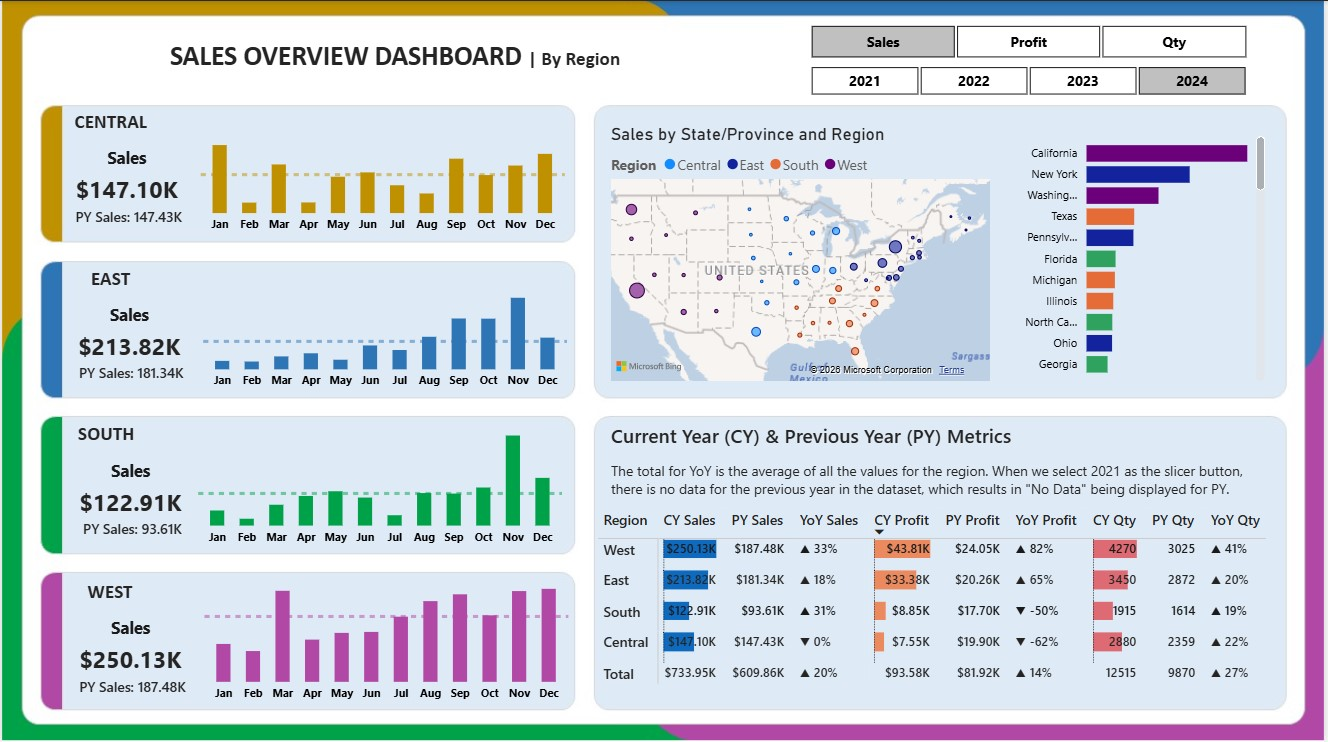

The dashboard page shown, as its layout file describes it:
{"tool":"powerbi","page":{"name":"Page 1","canvas":[1280,720],"ordinal":0},"visuals":[{"type":"slicer","fields":{"Values":["Select Metric.Select Metric"]},"box":[757.8,16.9,470.9,44.8],"z":0},{"type":"card","fields":{"Values":["Sales Data.Total Qty"]},"box":[60.5,162.2,121,43.6],"z":1000},{"type":"textbox","box":[60.5,100.5,89.6,36.3],"z":2000},{"type":"slicer","fields":{"Values":["Calendar Table.Year"]},"box":[757.7,56.3,470.4,38],"z":3000},{"type":"card","fields":{"Values":["Sales Data.Dynamic Title"]},"box":[77.5,136.8,87.2,35.1],"z":4000},{"type":"card","fields":{"Values":["Sales Data.PY KPI Sales"]},"box":[64.2,196.1,117.4,25.4],"z":5000},{"type":"clusteredColumnChart","fields":{"Y":["Sales Data.Total Qty"],"Category":["Calendar Table.Month"]},"box":[188,100.2,362.3,133.1],"z":6000},{"type":"textbox","box":[67.8,31.5,625.8,49.6],"z":7000},{"type":"card","fields":{"Values":["Sales Data.Total Qty"]},"box":[62.8,313.8,121,43.6],"z":8000},{"type":"textbox","box":[60.4,252.5,89.2,35.7],"z":9000},{"type":"card","fields":{"Values":["Sales Data.Dynamic Title"]},"box":[79.8,288.4,87.2,35.1],"z":10000},{"type":"card","fields":{"Values":["Sales Data.PY KPI Sales"]},"box":[66.5,347.7,117.4,25.4],"z":11000},{"type":"clusteredColumnChart","fields":{"Y":["Sales Data.Total Qty"],"Category":["Calendar Table.Month"]},"box":[190.3,251.8,362.3,133.1],"z":12000},{"type":"card","fields":{"Values":["Sales Data.Total Qty"]},"box":[64.1,465.4,121,43.6],"z":13000},{"type":"textbox","box":[60.4,403.4,85.1,37],"z":14000},{"type":"card","fields":{"Values":["Sales Data.Dynamic Title"]},"box":[81,440,87.2,35.1],"z":15000},{"type":"card","fields":{"Values":["Sales Data.PY KPI Sales"]},"box":[67.7,499.3,117.4,25.4],"z":16000},{"type":"clusteredColumnChart","fields":{"Y":["Sales Data.Total Qty"],"Category":["Calendar Table.Month"]},"box":[185.2,403.4,362.3,133.1],"z":17000},{"type":"card","fields":{"Values":["Sales Data.Total Qty"]},"box":[64.1,616.9,121,43.6],"z":18000},{"type":"textbox","box":[64.5,555.7,81,35.7],"z":19000},{"type":"card","fields":{"Values":["Sales Data.Dynamic Title"]},"box":[81,591.5,87.2,35.1],"z":20000},{"type":"card","fields":{"Values":["Sales Data.PY KPI Sales"]},"box":[67.7,650.8,117.4,25.4],"z":21000},{"type":"clusteredColumnChart","fields":{"Y":["Sales Data.Total Qty"],"Category":["Calendar Table.Month"]},"box":[191.5,554.9,362.3,133.1],"z":22000},{"type":"map","fields":{"Size":["Sales Data.Total Qty"],"Category":["Sales Data.State/Province"],"Series":["Sales Data.Region"]},"box":[584.5,118.3,377.5,254.9],"z":23000},{"type":"barChart","fields":{"Y":["Sales Data.Total Qty"],"Category":["Sales Data.State/Province"],"Series":["Sales Data.Region"]},"box":[974.6,118.3,253.5,254.9],"z":24000},{"type":"pivotTable","fields":{"Rows":["Sales Data.Region"],"Values":["Sales Data.CY Sales","Sales Data.PY Sales","Sales Data.YoY Sales","Sales Data.CY Profit","Sales Data.PY Profit","Sales Data.YoY Profit","Sales Data.CY Qty","Sales Data.PY Qty","Sales Data.YoY Qty"]},"box":[572.6,486.6,668.2,188.8],"z":25000},{"type":"textbox","box":[584.5,402.8,408.5,36.6],"z":26000},{"type":"textbox","box":[584.7,440.6,627,46],"z":27000}]}

Visuals, with their boxes in screenshot pixels (x1, y1, x2, y2), scaled from the page's 1280x720 canvas onto the 1328x742 screenshot:
slicer - Select Metric.Select Metric: [x1=786, y1=17, x2=1275, y2=64]
card - Sales Data.Total Qty: [x1=63, y1=167, x2=188, y2=212]
textbox: [x1=63, y1=104, x2=156, y2=141]
slicer - Calendar Table.Year: [x1=786, y1=58, x2=1274, y2=97]
card - Sales Data.Dynamic Title: [x1=80, y1=141, x2=171, y2=177]
card - Sales Data.PY KPI Sales: [x1=67, y1=202, x2=188, y2=228]
clusteredColumnChart - Sales Data.Total Qty x Calendar Table.Month: [x1=195, y1=103, x2=571, y2=240]
textbox: [x1=70, y1=32, x2=720, y2=84]
card - Sales Data.Total Qty: [x1=65, y1=323, x2=191, y2=368]
textbox: [x1=63, y1=260, x2=155, y2=297]
card - Sales Data.Dynamic Title: [x1=83, y1=297, x2=173, y2=333]
card - Sales Data.PY KPI Sales: [x1=69, y1=358, x2=191, y2=385]
clusteredColumnChart - Sales Data.Total Qty x Calendar Table.Month: [x1=197, y1=259, x2=573, y2=397]
card - Sales Data.Total Qty: [x1=67, y1=480, x2=192, y2=525]
textbox: [x1=63, y1=416, x2=151, y2=454]
card - Sales Data.Dynamic Title: [x1=84, y1=453, x2=175, y2=490]
card - Sales Data.PY KPI Sales: [x1=70, y1=515, x2=192, y2=541]
clusteredColumnChart - Sales Data.Total Qty x Calendar Table.Month: [x1=192, y1=416, x2=568, y2=553]
card - Sales Data.Total Qty: [x1=67, y1=636, x2=192, y2=681]
textbox: [x1=67, y1=573, x2=151, y2=609]
card - Sales Data.Dynamic Title: [x1=84, y1=610, x2=175, y2=646]
card - Sales Data.PY KPI Sales: [x1=70, y1=671, x2=192, y2=697]
clusteredColumnChart - Sales Data.Total Qty x Calendar Table.Month: [x1=199, y1=572, x2=575, y2=709]
map - Sales Data.Total Qty x Sales Data.State/Province: [x1=606, y1=122, x2=998, y2=385]
barChart - Sales Data.Total Qty x Sales Data.State/Province: [x1=1011, y1=122, x2=1274, y2=385]
pivotTable - Sales Data.Region x Sales Data.CY Sales: [x1=594, y1=501, x2=1287, y2=696]
textbox: [x1=606, y1=415, x2=1030, y2=453]
textbox: [x1=607, y1=454, x2=1257, y2=501]
